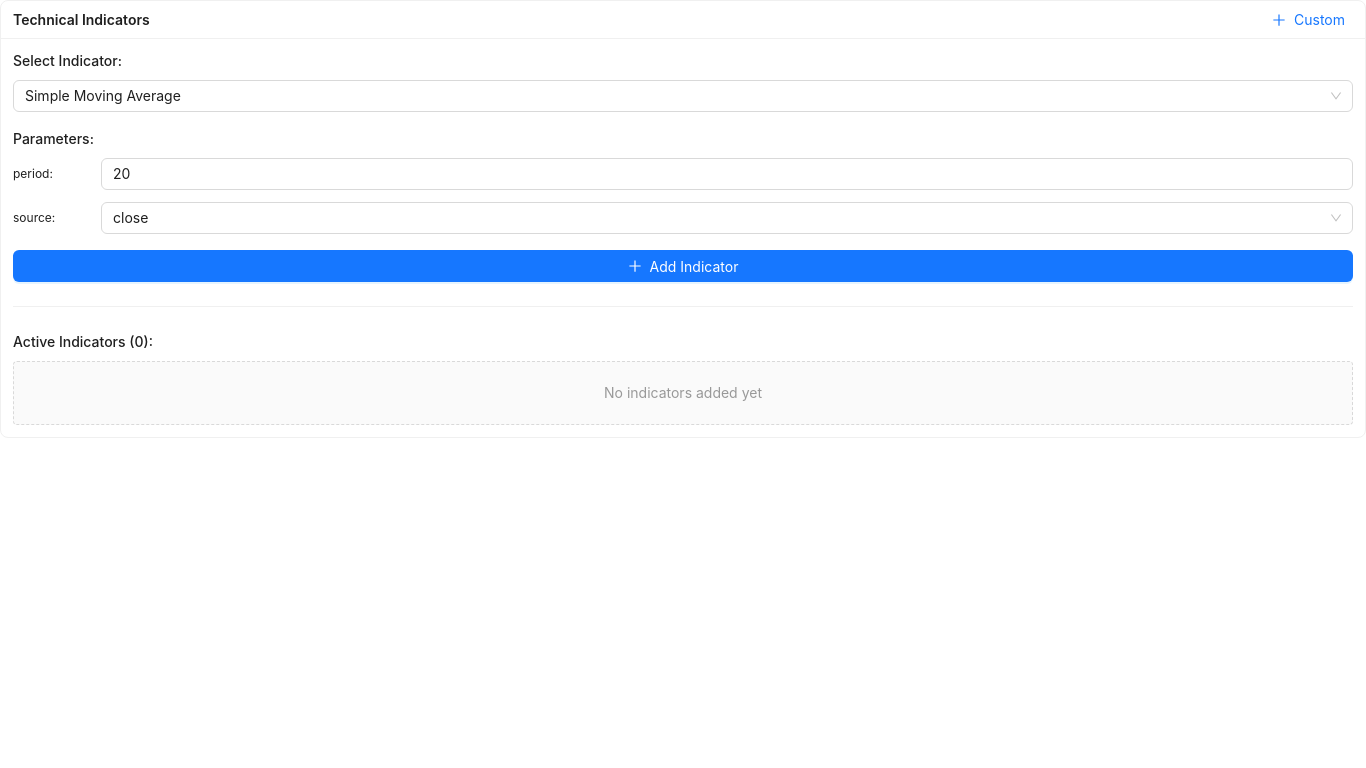
Scenario: IndicatorBuilder › Custom Indicator Creation › should open custom indicator modal when custom button clicked
Click the button "Custom" at (1308, 20), box x1=1264 y1=8 x2=1353 y2=32
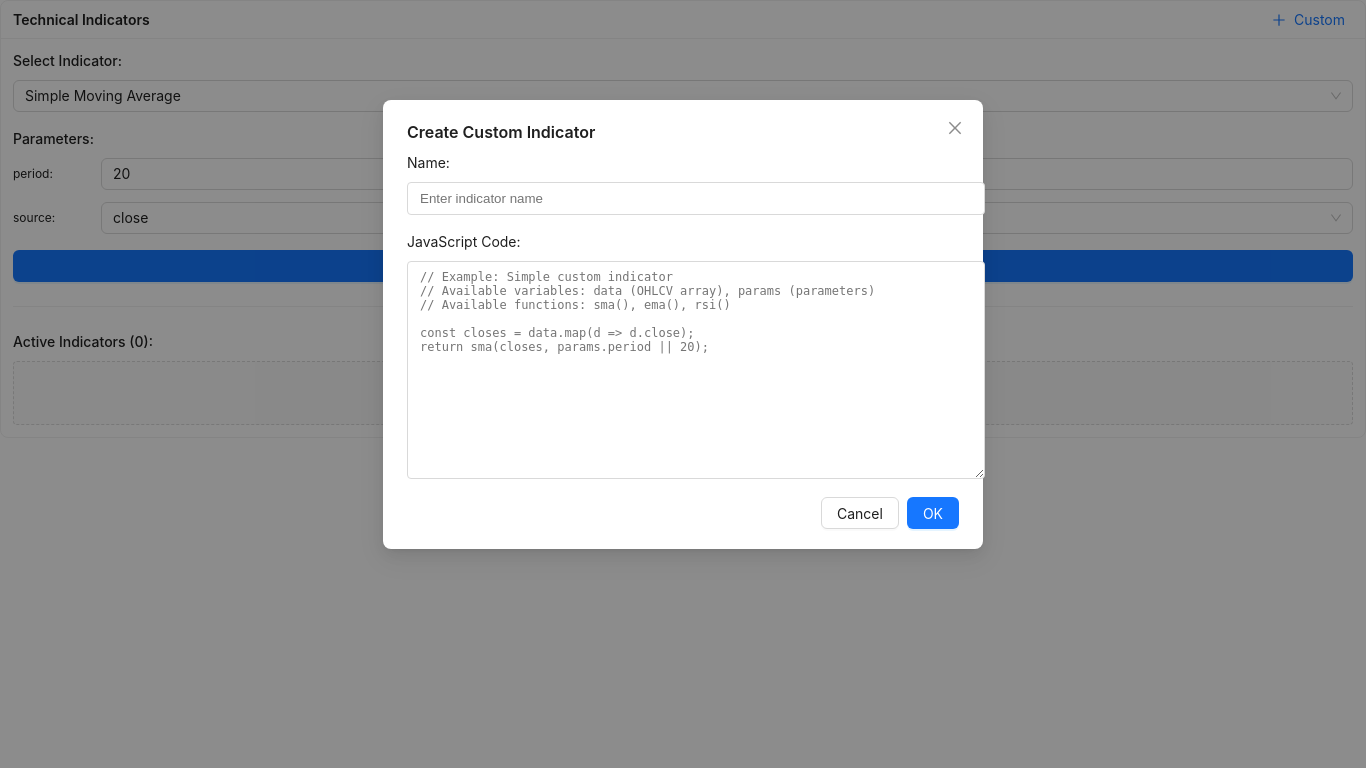
Expected: the text "Create Custom Indicator" is shown, x1=407 y1=122 x2=595 y2=142
Expected: the field with placeholder "Enter indicator name" is shown, x1=407 y1=182 x2=985 y2=215
Expected: the text box with placeholder "Example: Simple custom indicator" is shown, x1=407 y1=261 x2=985 y2=479
